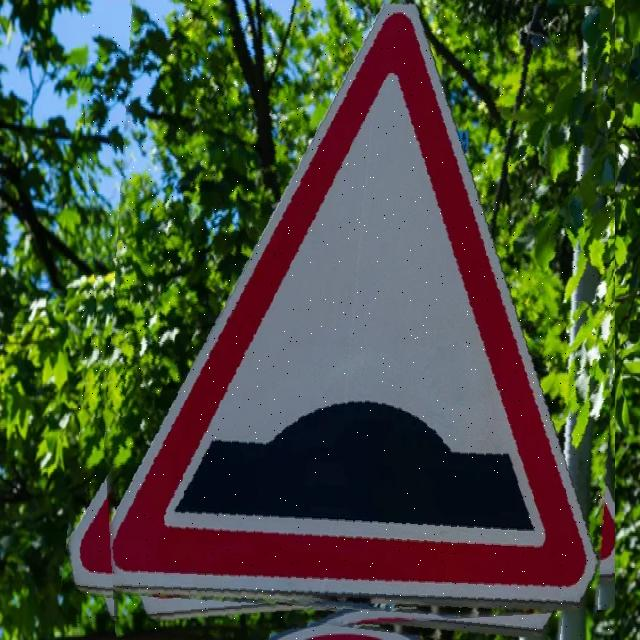hump: (78, 0, 615, 639)
